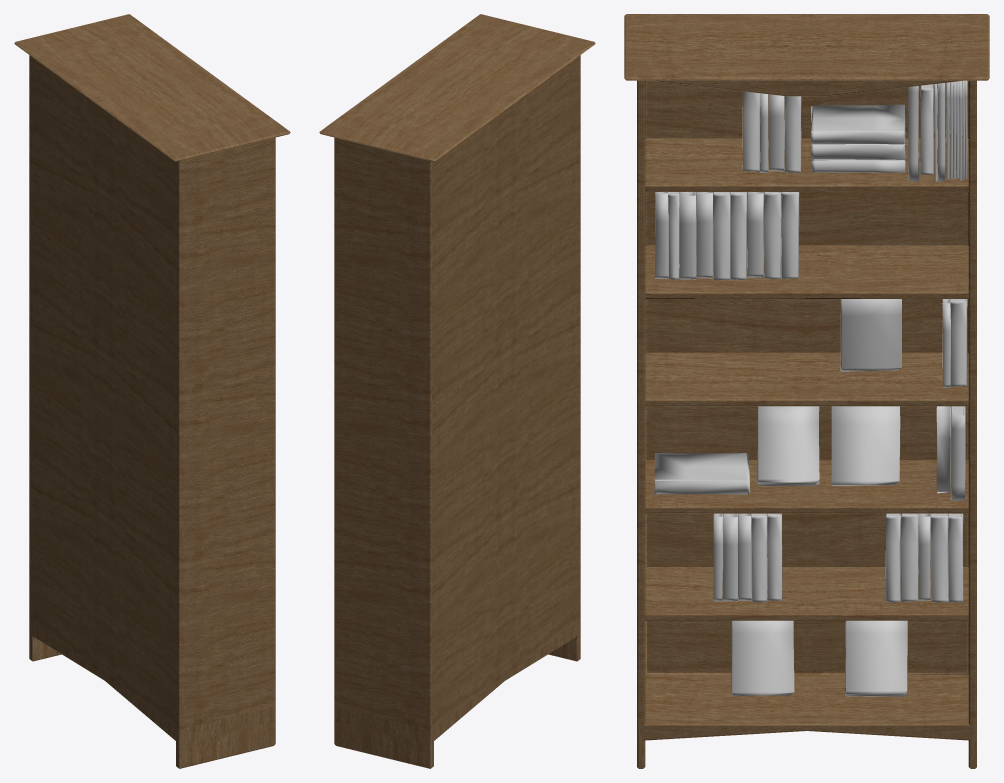
3 views of the same model, side by side, from view 1: azimuth 30°, elevation 25°; view 2: azimuth 150°, elevation 25°; view 3: azimuth 270°, elevation 25° (orthographic). The views are drawn at different scales.
Visible parts, largest first — view 1: FurnituresP1.003_2; view 2: FurnituresP1.003_2; view 3: FurnituresP1.003_2, BookSet2.Optimized_3.
Part boxes in pixels (x1,y1,x2,y2): FurnituresP1.003_2: (14,14,290,768); FurnituresP1.003_2: (319,14,595,768); FurnituresP1.003_2: (624,14,989,768); BookSet2.Optimized_3: (654,80,967,696).
Size of the model in its own units: 0.3648 by 1.84 by 0.8728.
